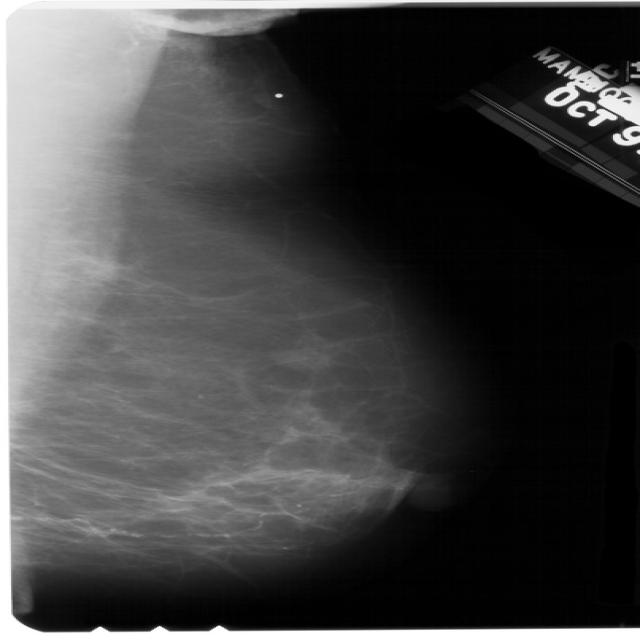tumour: (266, 346, 330, 371)
